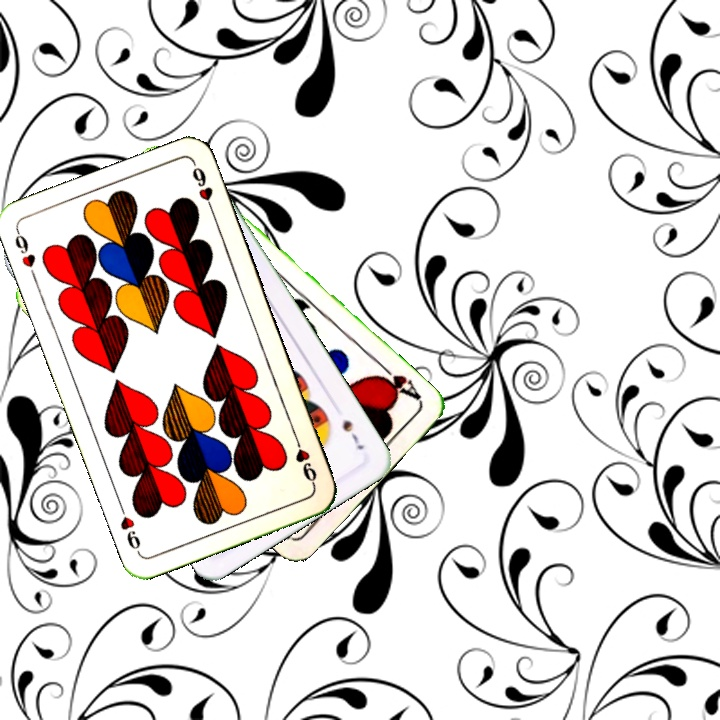H9: (290, 432, 320, 489), (10, 226, 38, 270)
HA: (371, 359, 424, 403)
S7: (338, 415, 367, 453)
